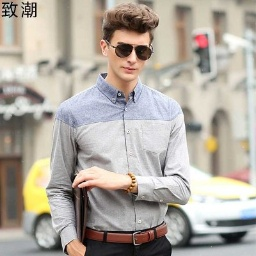face: (99, 2, 160, 85)
